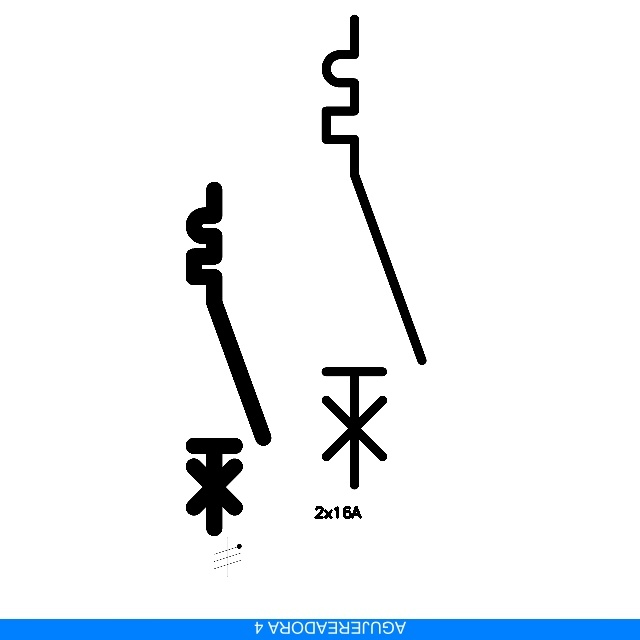interruptor_termomagnetico: (314, 7, 434, 496), (185, 181, 272, 537)
